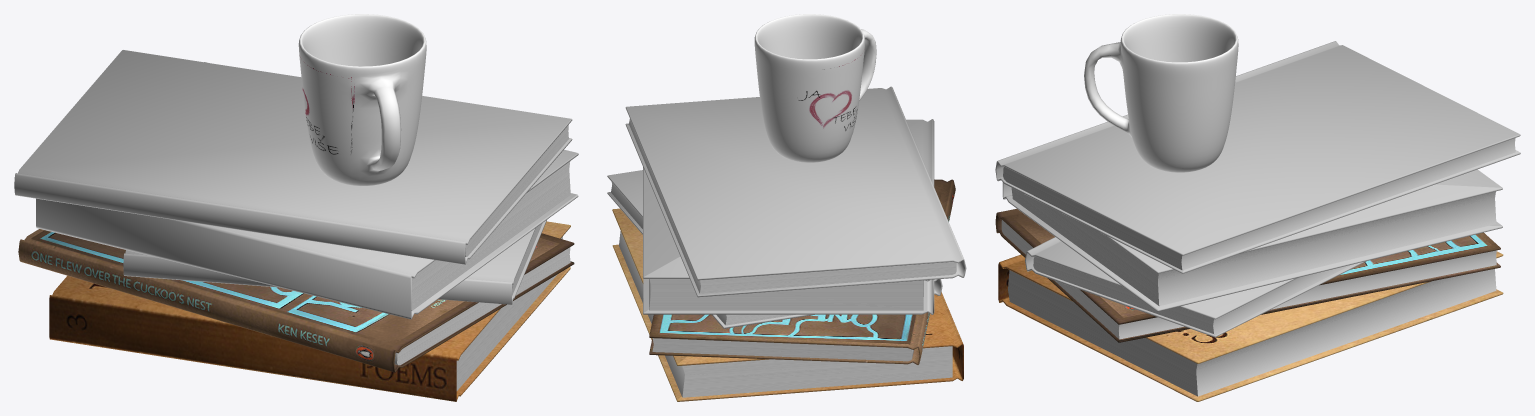
Rendered from knigiskrujkoi.fbx.
3 renders of one model, left to right at view 1: azimuth 30°, elevation 25°; view 2: azimuth 150°, elevation 25°; view 3: azimuth 270°, elevation 25°, orthographic. The views are drawn at different scales.
Parts seen in each view (by area): view 1: books_and_mugs; view 2: books_and_mugs; view 3: books_and_mugs.
Boxes of the visible parts, x1,y1,x2,y2 form: books_and_mugs: [14, 14, 578, 401]; books_and_mugs: [607, 14, 966, 401]; books_and_mugs: [995, 14, 1520, 401].
Bounding box in the file's own units: 58.69 × 33.56 × 59.94.
